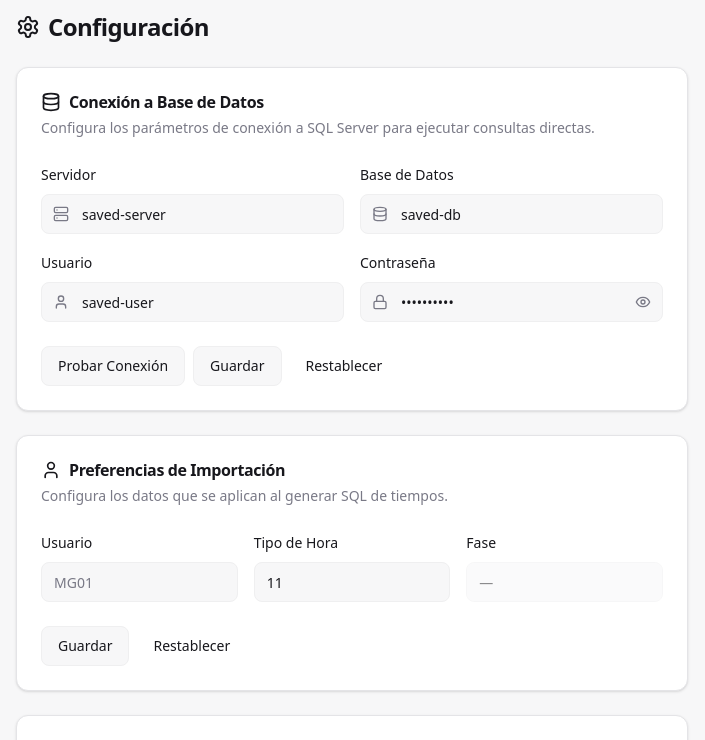
Scenario: SettingsPage - DB Connection Section › Test 4: Restablecer reverts to last saved › should revert form to last saved values when Restablecer is clicked
Replace the text in the field with id "server" with "changed-server": (192,214) [41, 194, 344, 234]
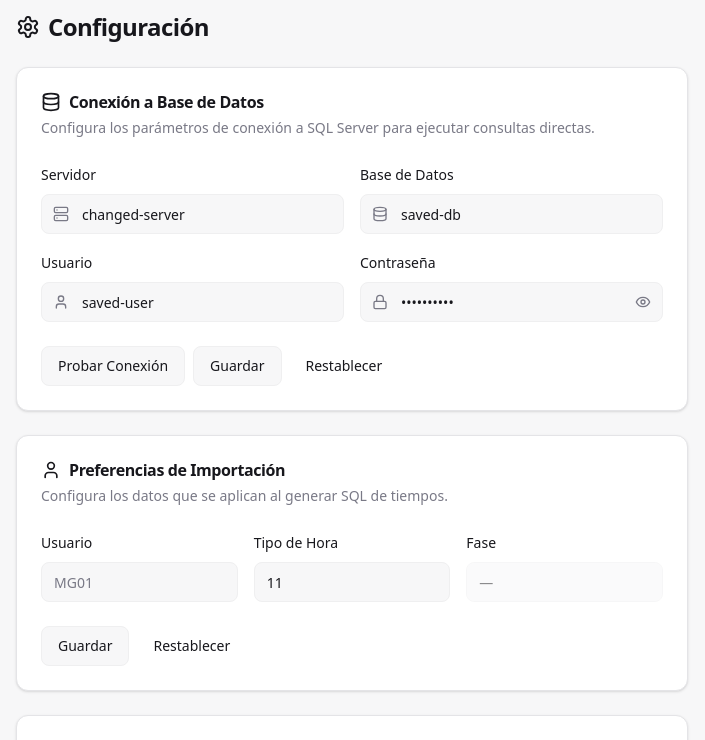
Replace the text in the field with id "database" with "changed-db": (512,214) [360, 194, 663, 234]
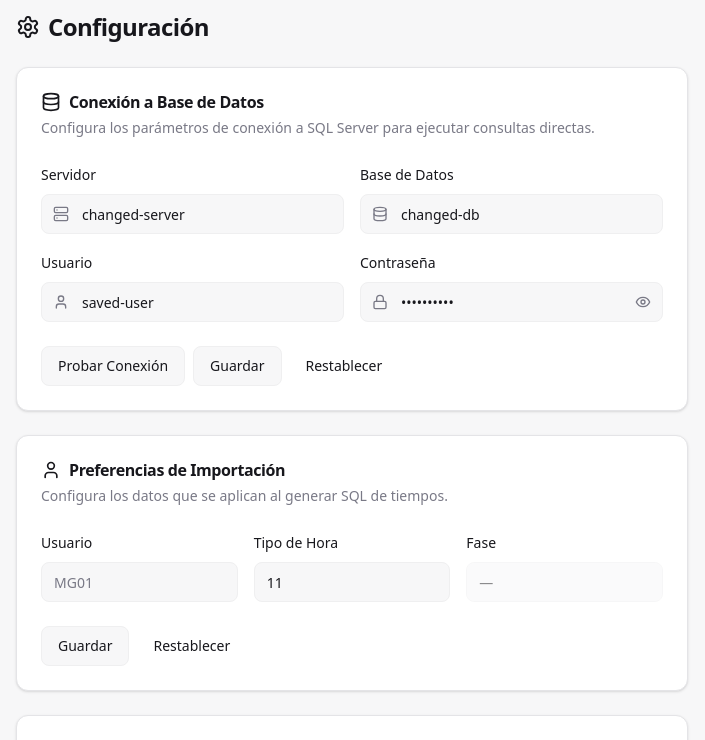
// Click first Restablecer button (DB section)
Click the button "Restablecer" below "Contraseña": (344,366) [290, 346, 398, 386]
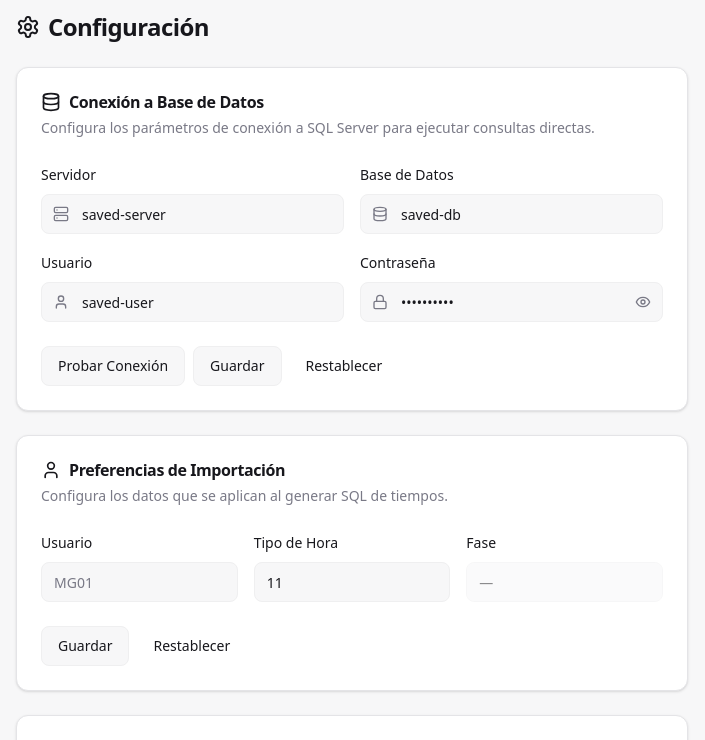
expect the field with id "username" holds "saved-user": met, box [41, 282, 344, 322]
expect the field with id "server" holds "saved-server": met, box [41, 194, 344, 234]
expect the field with id "database" holds "saved-db": met, box [360, 194, 663, 234]
